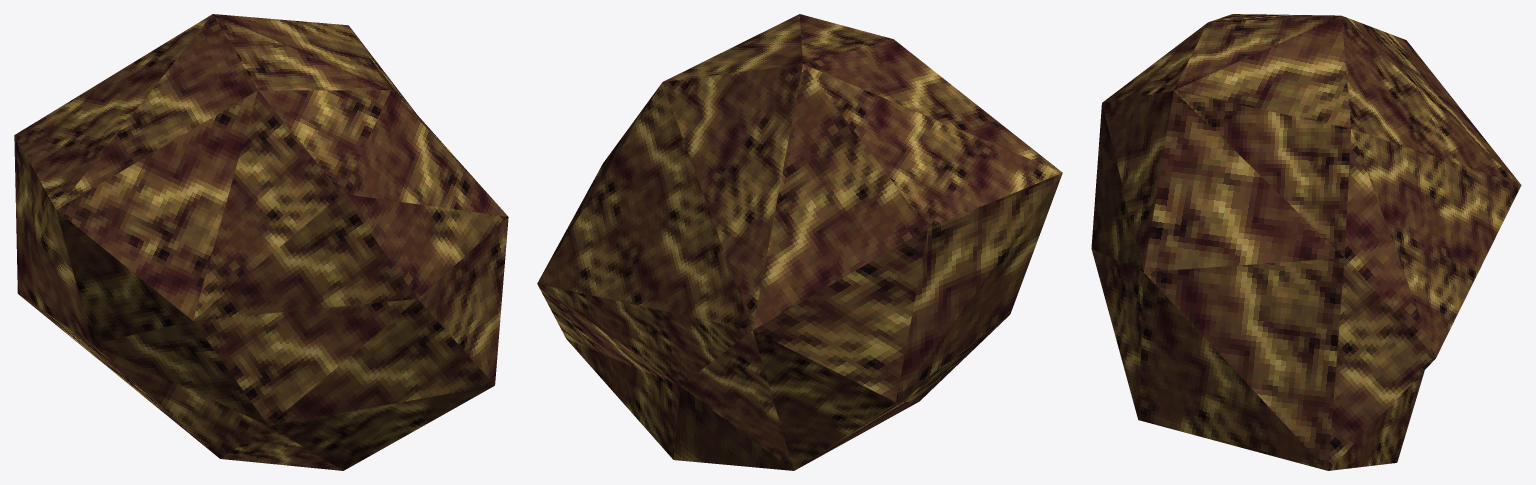
The model's file is brown_asteroid.fbx.
The picture shows the model from 3 angles, left to right: view 1: azimuth 30°, elevation 25°; view 2: azimuth 150°, elevation 25°; view 3: azimuth 270°, elevation 25°; orthographic projection. The views are drawn at different scales.
Parts seen in each view (by area): view 1: brown_asteroid; view 2: brown_asteroid; view 3: brown_asteroid.
Boxes of the visible parts, bbox=[...] form: brown_asteroid: bbox=[14, 14, 508, 470]; brown_asteroid: bbox=[537, 14, 1062, 470]; brown_asteroid: bbox=[1091, 14, 1521, 470].
Size of the model in its own units: 20825 by 17746 by 17374.
Materials: 1 (1 with a texture image).
